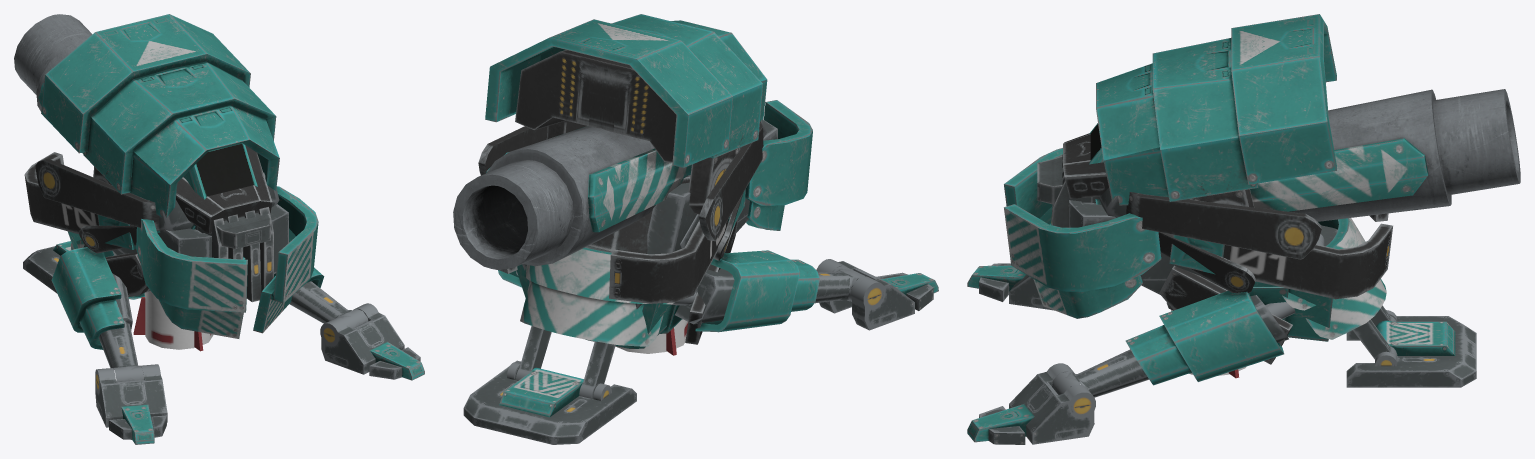
File: cannon_turret_paint.gltf
3 renders of one model, left to right at view 1: azimuth 30°, elevation 25°; view 2: azimuth 150°, elevation 25°; view 3: azimuth 270°, elevation 25°, orthographic. The views are drawn at different scales.
Visible parts, largest first — view 1: cannon_main_head_bottom_low, leg_armor_low, turret_rocket_low; view 2: cannon_main_head_bottom_low, leg_armor_low, turret_rocket_low; view 3: cannon_main_head_bottom_low, leg_armor_low.
Part boxes in pixels (x1,y1,x2,y2): cannon_main_head_bottom_low: [14, 14, 318, 338]; leg_armor_low: [23, 143, 424, 444]; turret_rocket_low: [133, 291, 213, 351]; cannon_main_head_bottom_low: [453, 14, 812, 348]; leg_armor_low: [463, 120, 938, 444]; turret_rocket_low: [615, 319, 688, 355]; cannon_main_head_bottom_low: [1004, 14, 1520, 364]; leg_armor_low: [967, 123, 1476, 444].
Size of the model in its own units: 96.7 by 85.97 by 133.
Materials: 1 (1 with a texture image).
